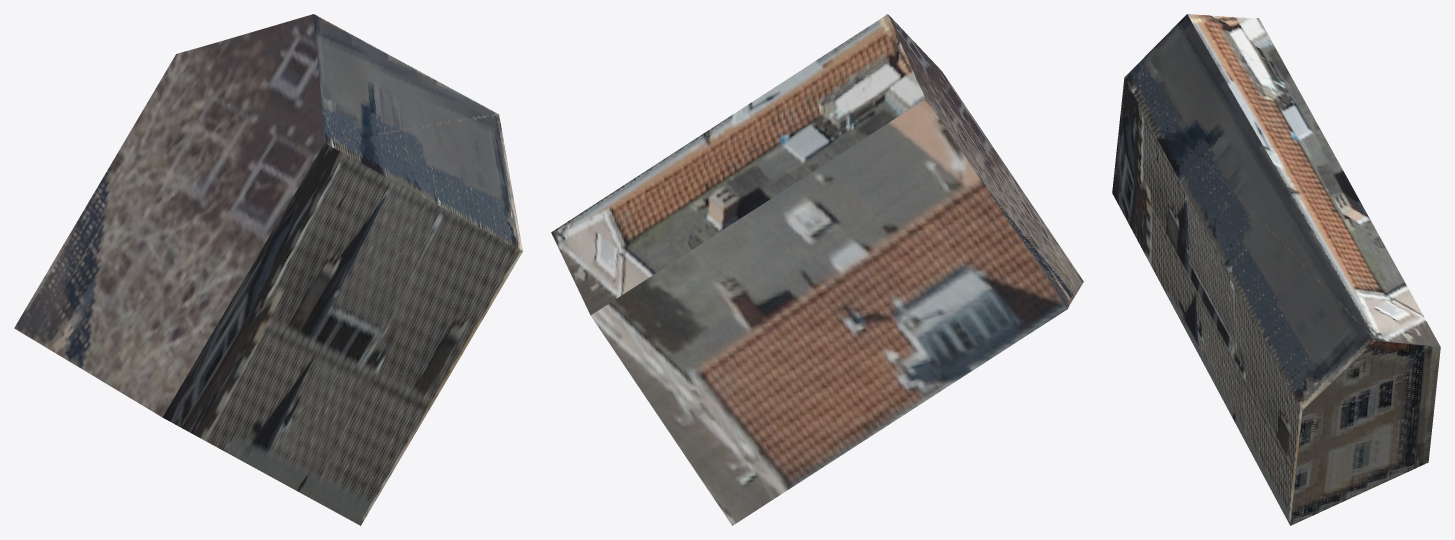
3 views of the same model, side by side, from view 1: azimuth 30°, elevation 25°; view 2: azimuth 150°, elevation 25°; view 3: azimuth 270°, elevation 25° (orthographic). The views are drawn at different scales.
Visible parts, largest first — view 1: BAG_0599100000656923 (×3); view 2: BAG_0599100000656923 (×3); view 3: BAG_0599100000656923 (×3).
Part boxes in pixels (x1=…): BAG_0599100000656923 (×3): x1=14, y1=14, x2=522, y2=525; BAG_0599100000656923 (×3): x1=551, y1=14, x2=1083, y2=525; BAG_0599100000656923 (×3): x1=1112, y1=14, x2=1440, y2=525.
Bounding box in the file's own units: 15.77 × 15.62 × 9.93.
Materials: 1 (1 with a texture image).
